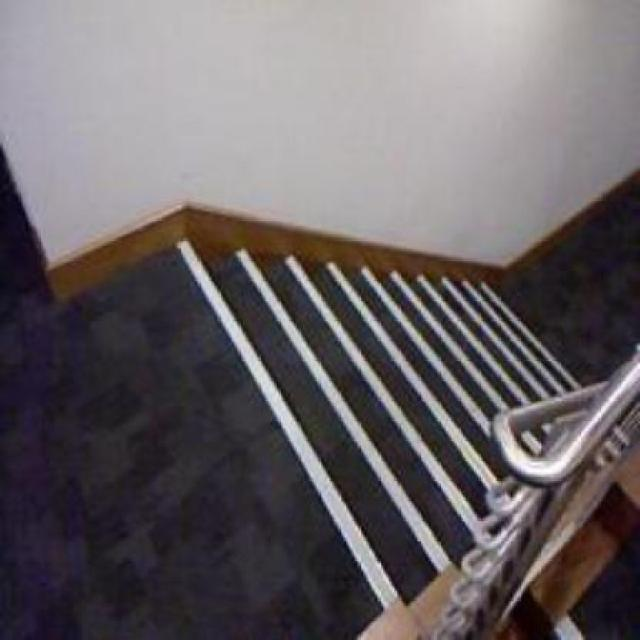stair: (178, 213, 616, 607)
